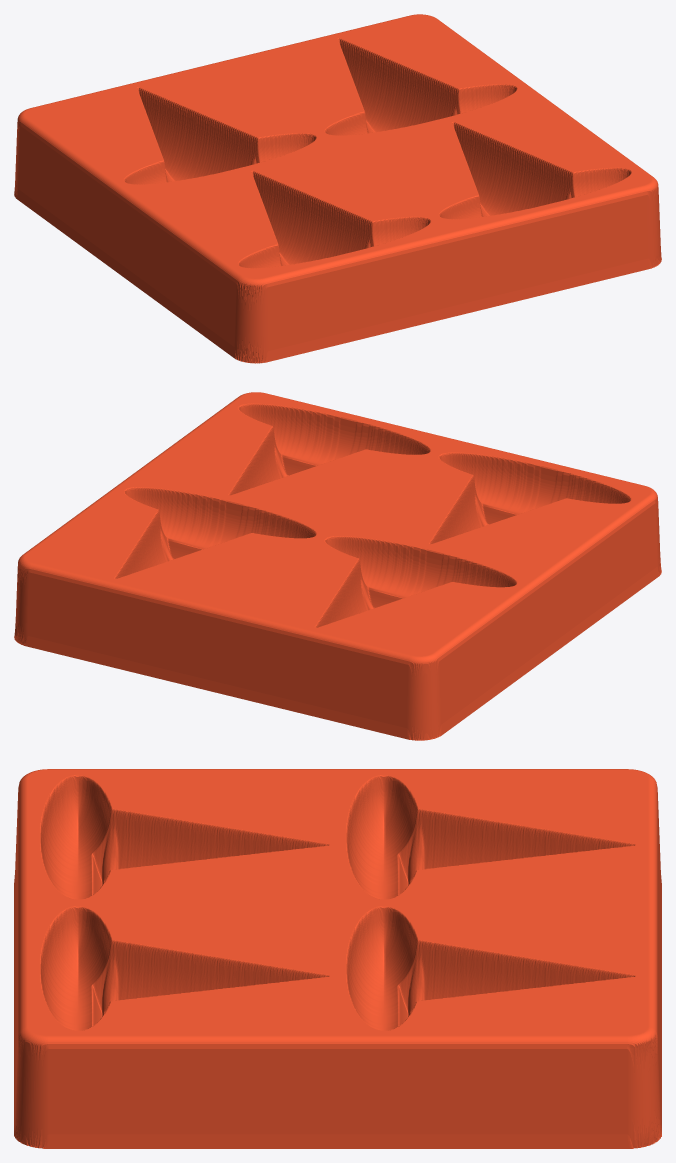
The model's file is mold.glb.
3 renders of one model, top to bottom at view 1: azimuth 30°, elevation 25°; view 2: azimuth 150°, elevation 25°; view 3: azimuth 270°, elevation 25°, orthographic. The views are drawn at different scales.
Visible parts, largest first — view 1: geometry_0; view 2: geometry_0; view 3: geometry_0.
Part boxes in pixels (x1,y1,x2,y2): geometry_0: (14, 14, 661, 363); geometry_0: (14, 392, 661, 740); geometry_0: (14, 769, 661, 1148).
Bounding box in the file's own units: 0.1721 × 0.031 × 0.1699.
